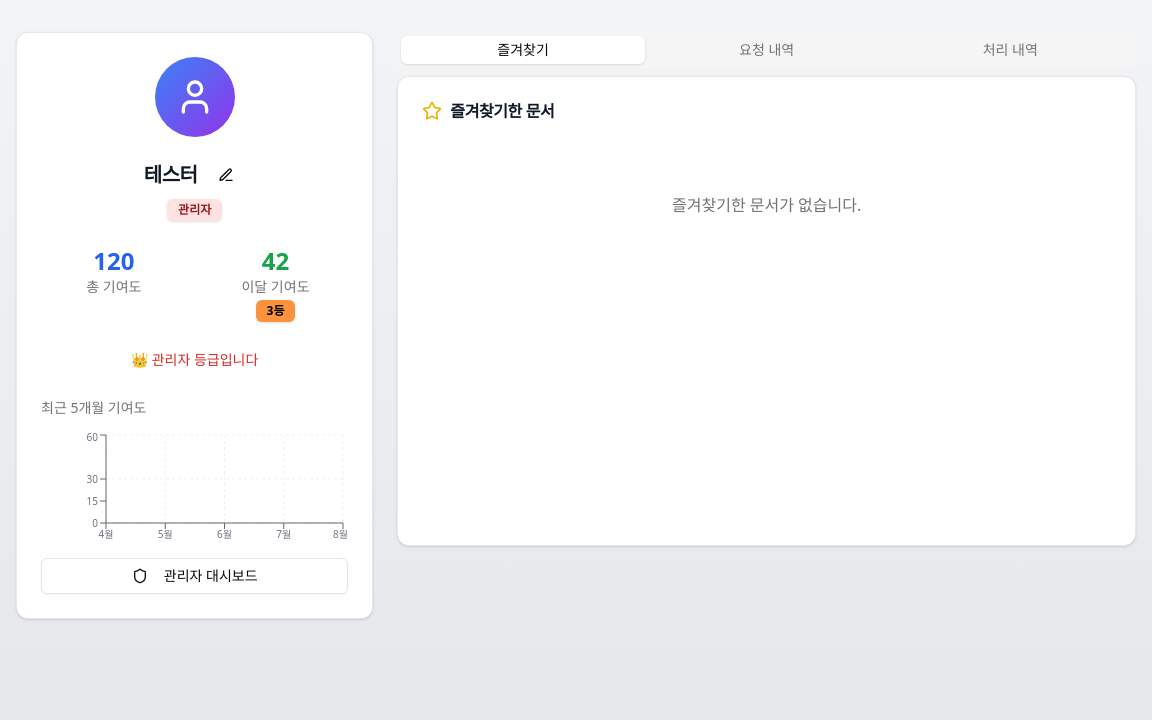
ProfilePage › renders stable infrastructure failure in the project error modal
Click the button named "닉네임 수정": (226, 175) [206,159,246,191]
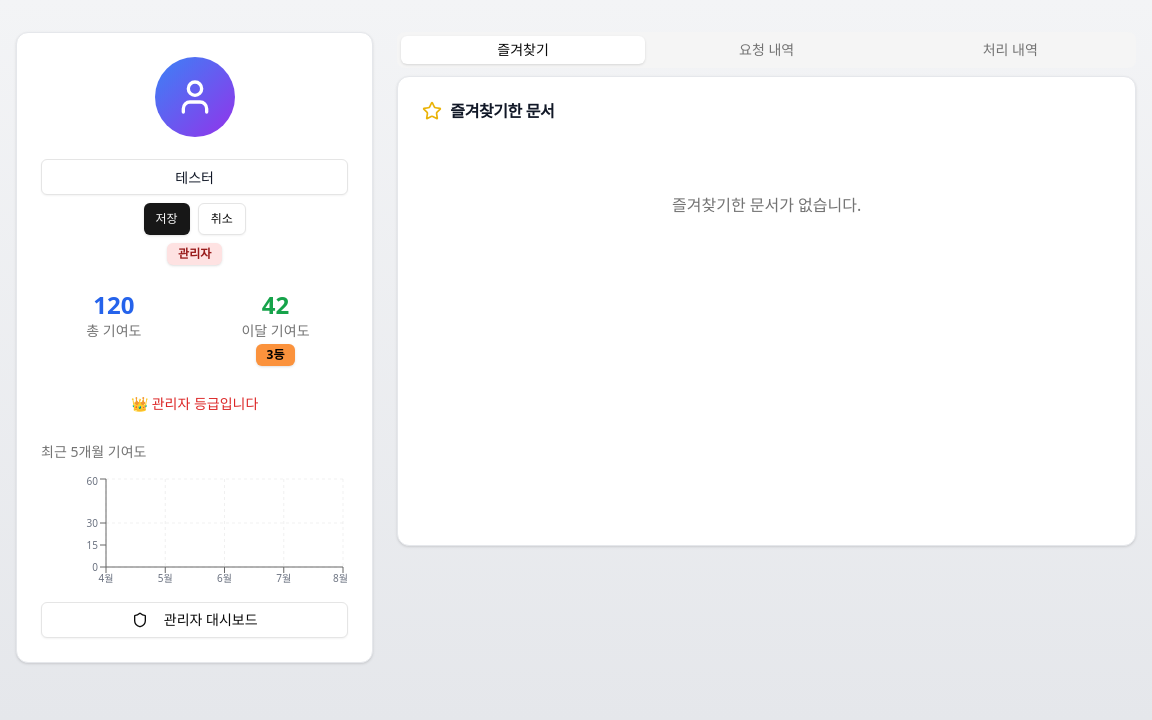
Replace the text in the field with placeholder "새 닉네임" with "변경닉네임": (195, 177) [41,159,348,195]
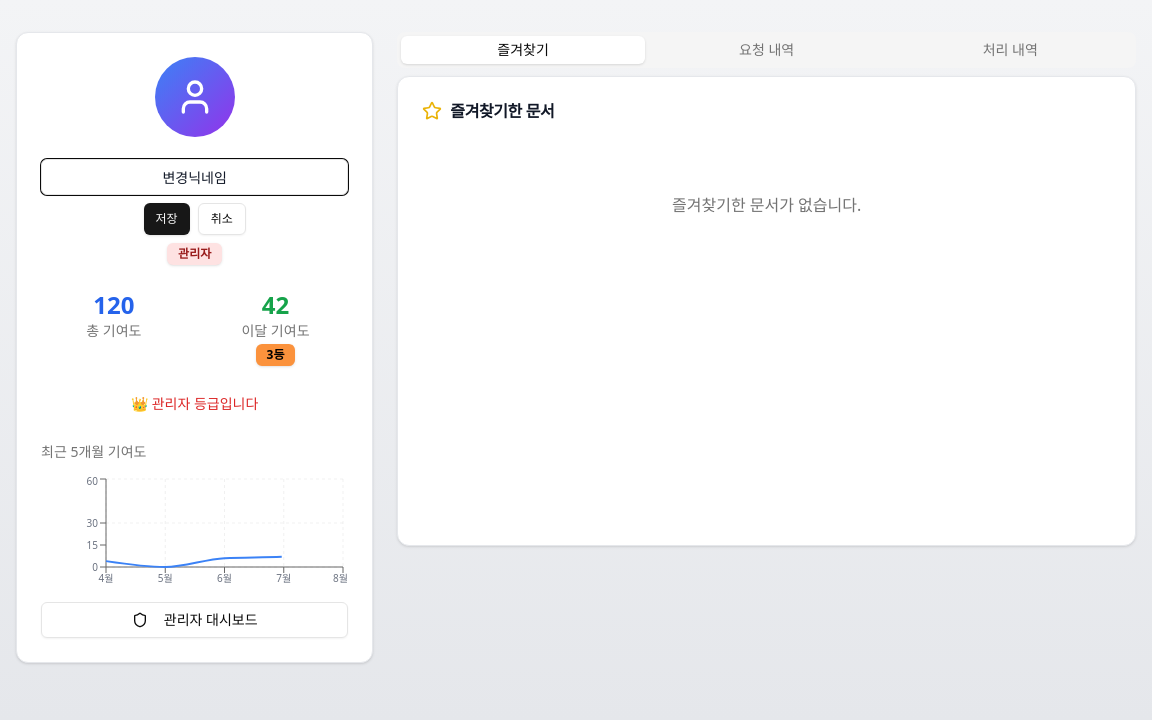
Click the button "저장": (167, 219) [144,203,190,235]
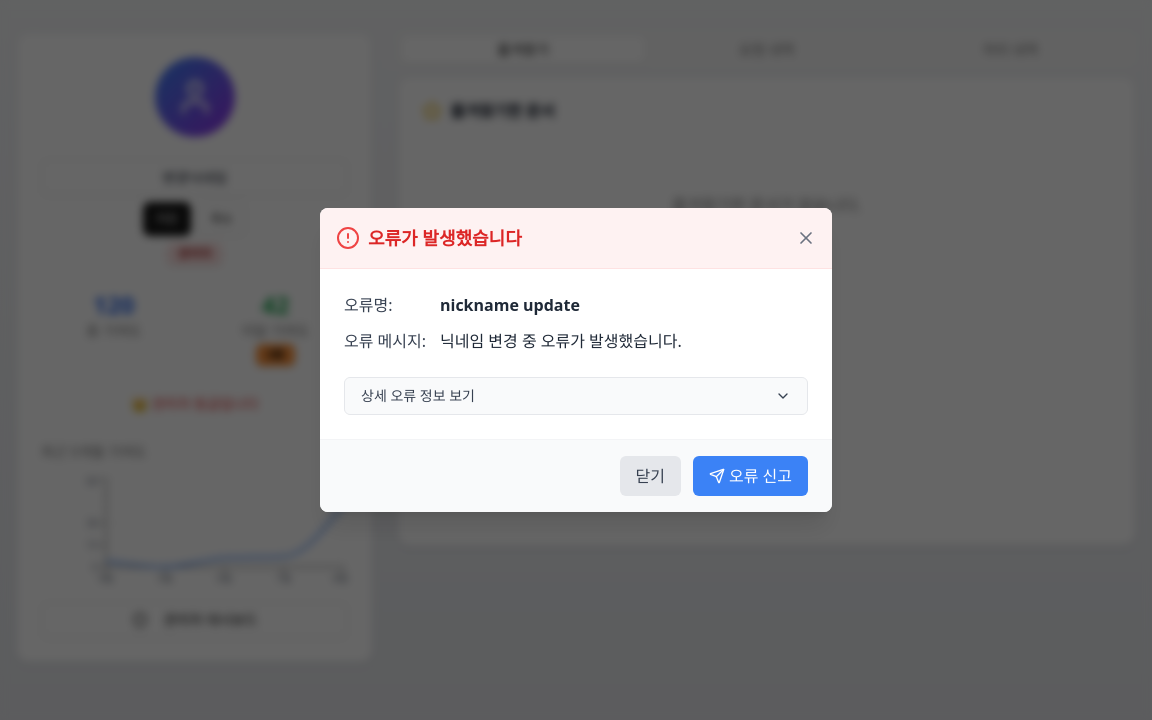
expect the text "닉네임 변경 중 오류가 발생했습니다." is shown: met, box [440,329,682,353]
